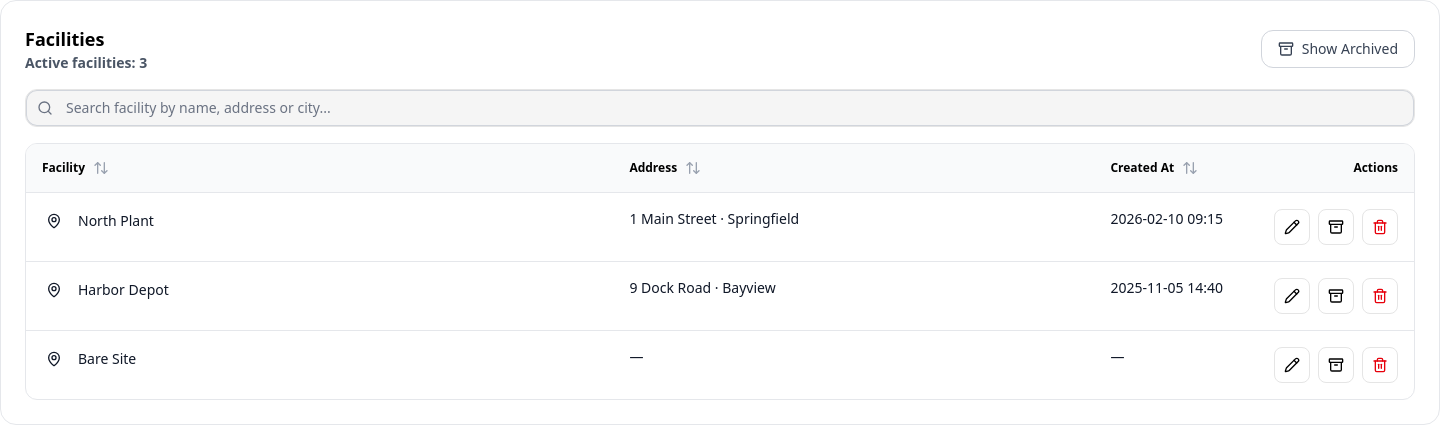
Test: FacilitiesContent › archived toggle › switches the query, the subtitle and the row actions
expect the button named "Archive facility" in the row of "North Plant" is shown: met, box [1318,208,1354,244]
Click the button with aria-label "Show archived facilities" at (1338, 49), box [1261,30,1415,68]
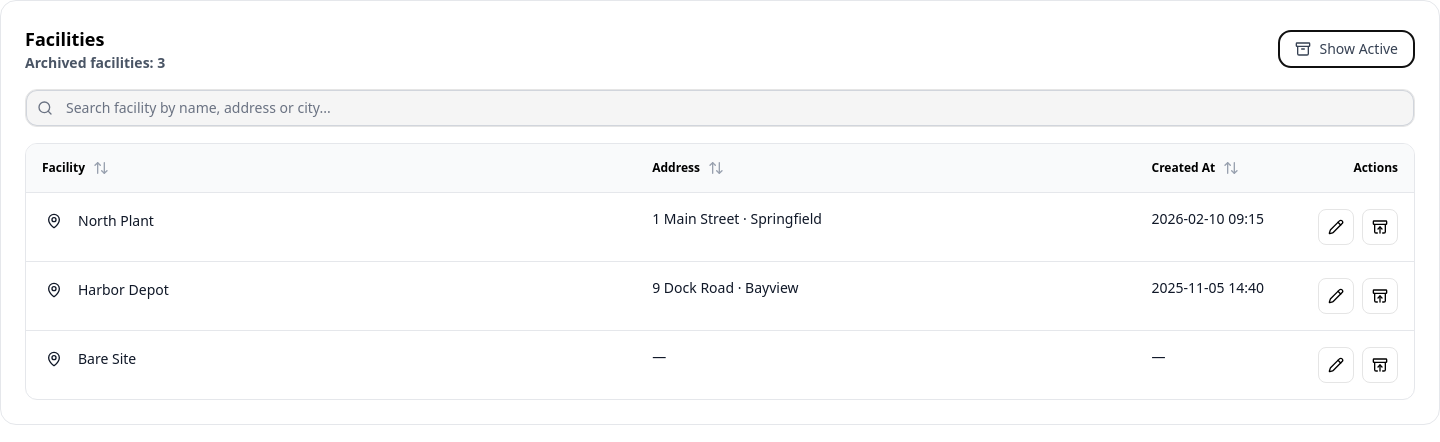
expect the text "Archived facilities: 3" is shown: met, box [25,53,165,73]
expect the button named "Restore facility" in the row of "North Plant" is shown: met, box [1362,208,1398,244]
